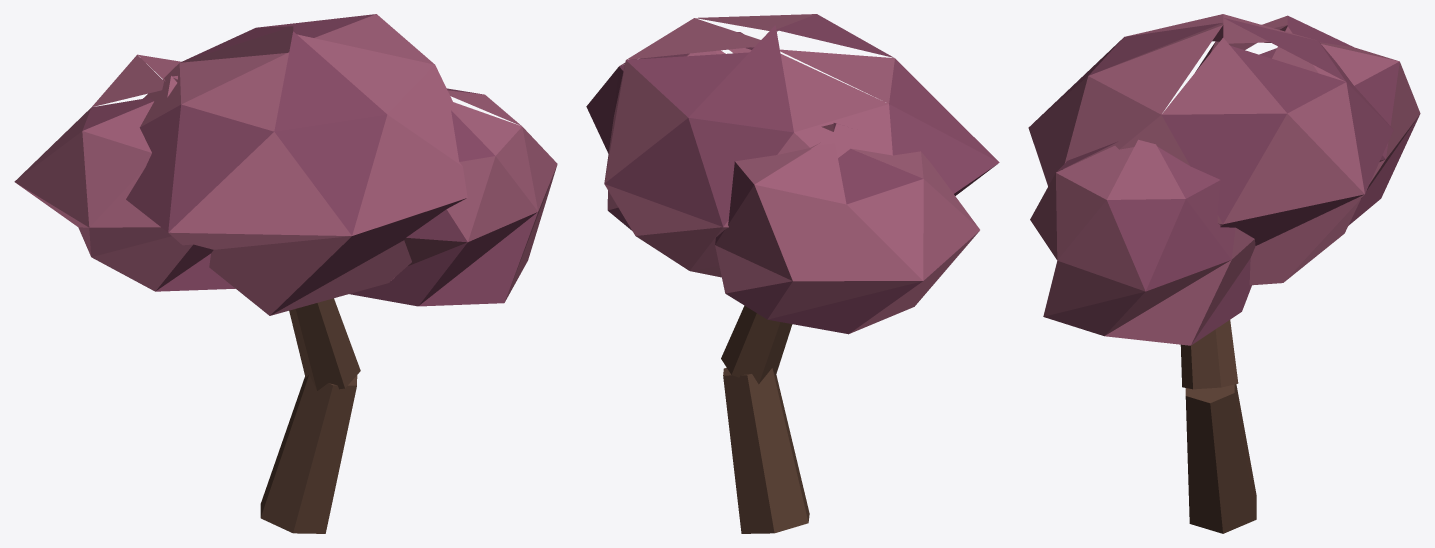
The model's file is blossom_tree.glb.
3 renders of one model, left to right at view 1: azimuth 30°, elevation 25°; view 2: azimuth 150°, elevation 25°; view 3: azimuth 270°, elevation 25°, orthographic.
Parts seen in each view (by area): view 1: blossom_tree2; view 2: blossom_tree2; view 3: blossom_tree2.
Boxes of the visible parts, <box> form: blossom_tree2: <box>14,14,557,533</box>; blossom_tree2: <box>586,14,999,533</box>; blossom_tree2: <box>1028,14,1420,533</box>.
Bounding box in the file's own units: 5.62 × 6.14 × 4.36.
